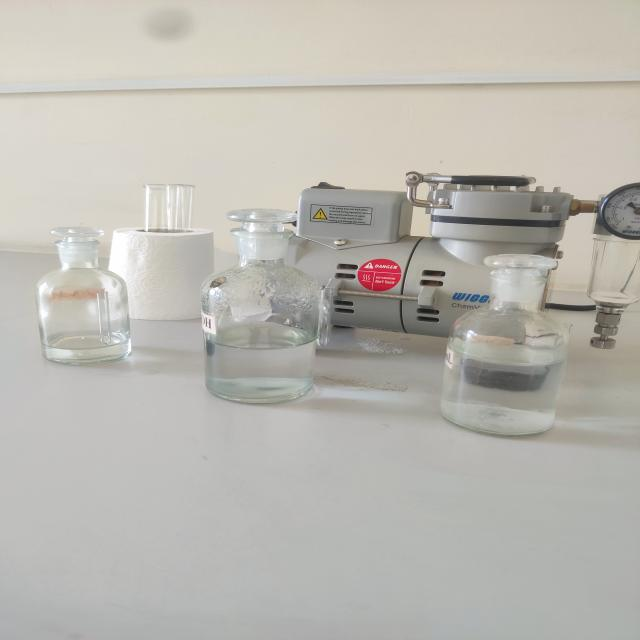Reagent_Bottle: (403, 229, 610, 459), (182, 187, 352, 422), (9, 200, 162, 393)
